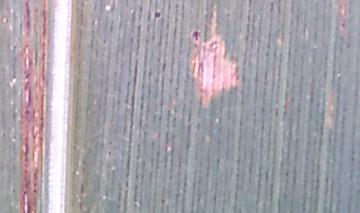tarspot: (150, 8, 165, 21), (190, 28, 202, 42)
